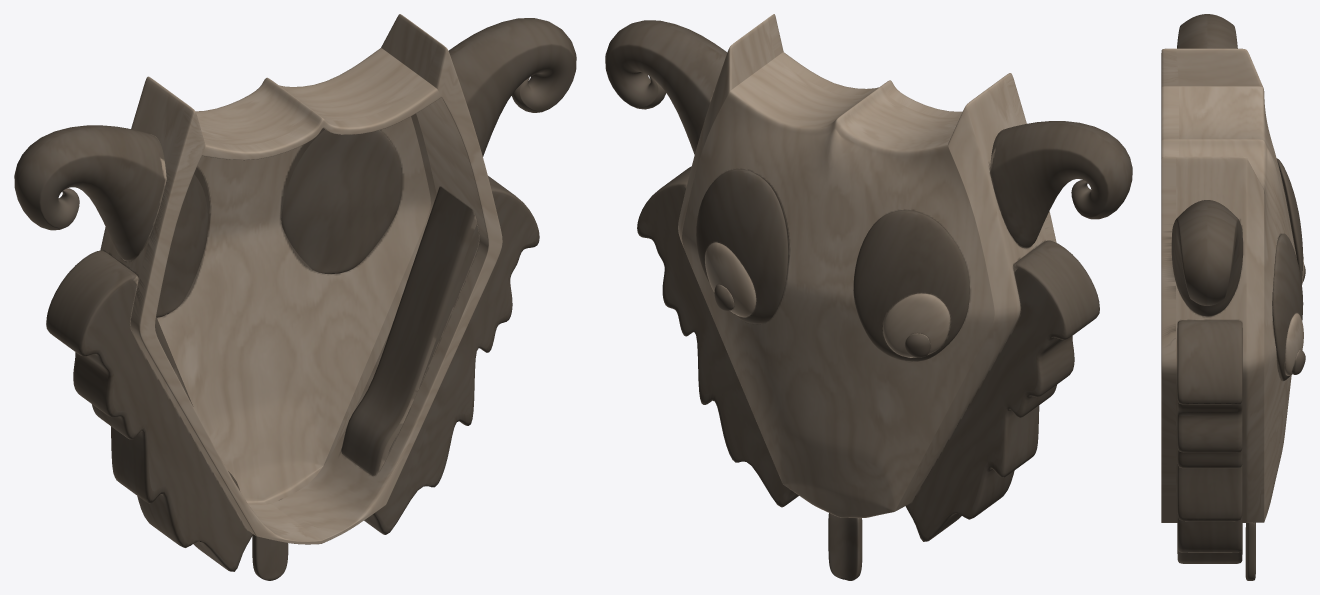
Rendered from Chevre_LOW.fbx.
3 renders of one model, left to right at view 1: azimuth 30°, elevation 25°; view 2: azimuth 150°, elevation 25°; view 3: azimuth 270°, elevation 25°, orthographic. The views are drawn at different scales.
Parts seen in each view (by area): view 1: Chevre LOW; view 2: Chevre LOW; view 3: Chevre LOW.
Boxes of the visible parts, x1,y1,x2,y2 form: Chevre LOW: [14, 14, 576, 580]; Chevre LOW: [605, 14, 1132, 580]; Chevre LOW: [1161, 14, 1305, 580].
Bounding box in the file's own units: 84.45 × 78.49 × 21.51.
Materials: 1 (1 with a texture image).
